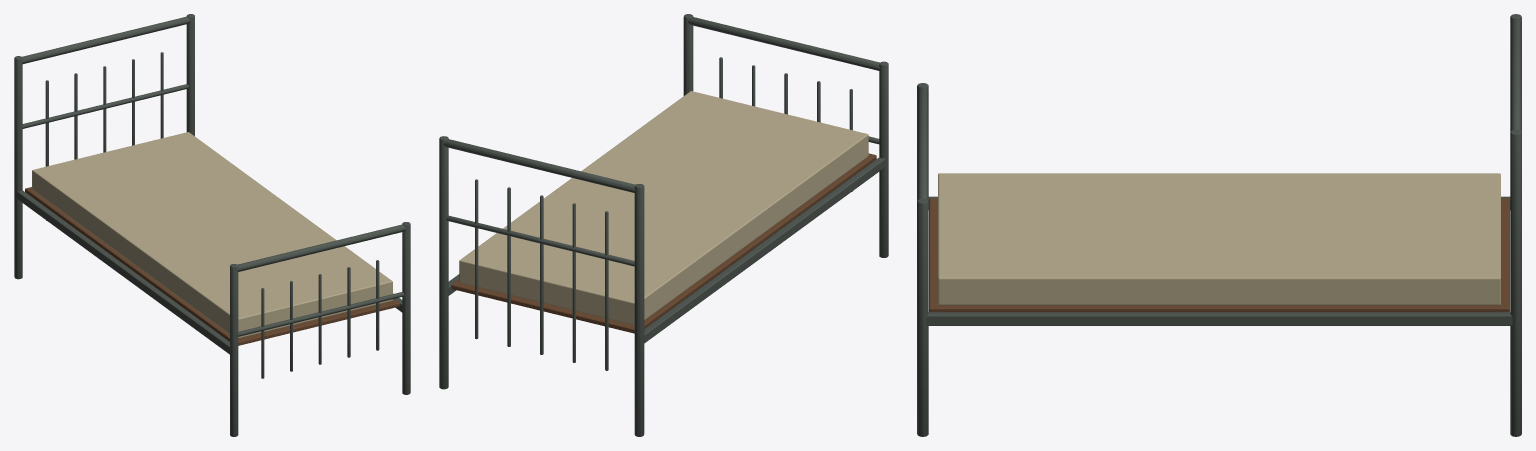
The model's file is PROP_Bed_Iron_Historic.glb.
3 views of the same model, side by side, from view 1: azimuth 30°, elevation 25°; view 2: azimuth 150°, elevation 25°; view 3: azimuth 270°, elevation 25° (orthographic). The views are drawn at different scales.
Visible parts, largest first — view 1: PROP_Bed_Iron_Historic_Mesh; view 2: PROP_Bed_Iron_Historic_Mesh; view 3: PROP_Bed_Iron_Historic_Mesh.
Part boxes in pixels (x1,y1,x2,y2): PROP_Bed_Iron_Historic_Mesh: (14, 14, 410, 436); PROP_Bed_Iron_Historic_Mesh: (439, 14, 888, 436); PROP_Bed_Iron_Historic_Mesh: (917, 14, 1521, 436).
Size of what is drawn, in the model's own units: 0.9387 by 1.1 by 1.99.
